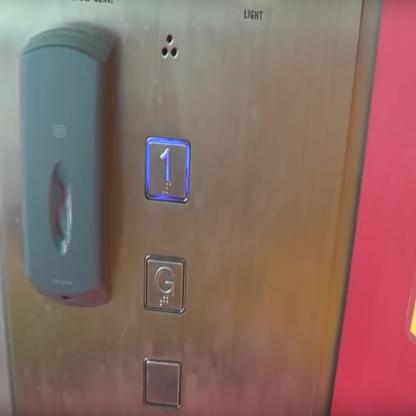1: (144, 134, 191, 206)
G: (142, 252, 188, 317)
empty: (141, 355, 183, 411)
